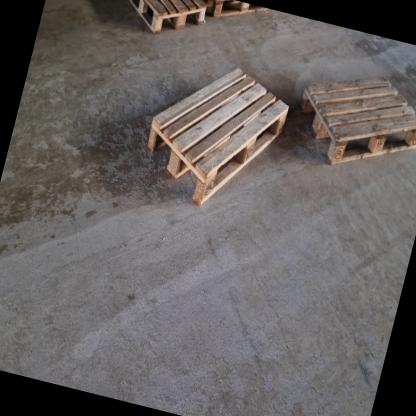BoxFace: (144, 64, 292, 217), (297, 72, 416, 173), (127, 0, 209, 39), (205, 0, 280, 26)
